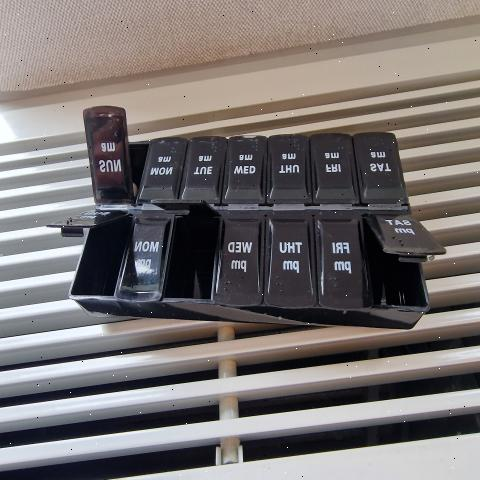Open: (366, 216, 447, 306), (153, 199, 219, 299), (53, 216, 130, 298), (125, 108, 148, 206)
